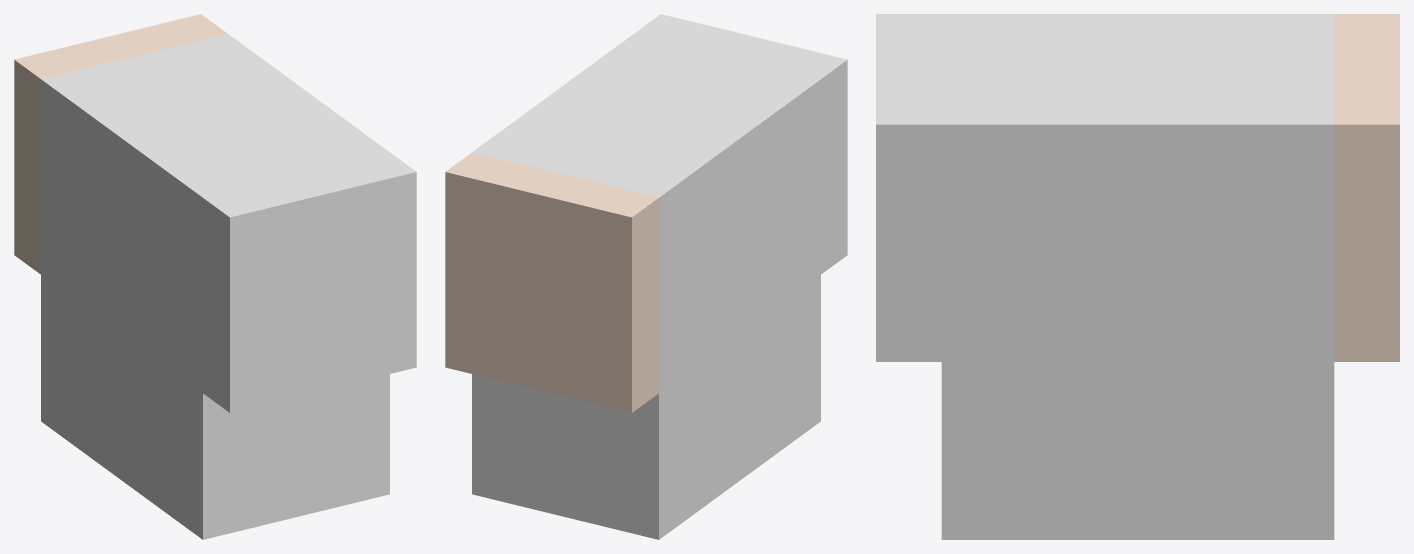
Rendered from kiritan-1-LeftArm_1.obj.
3 renders of one model, left to right at view 1: azimuth 30°, elevation 25°; view 2: azimuth 150°, elevation 25°; view 3: azimuth 270°, elevation 25°, orthographic. The views are drawn at different scales.
Parts seen in each view (by area): view 1: LeftArm_1; view 2: LeftArm_1; view 3: LeftArm_1.
Boxes of the visible parts, <box> form: LeftArm_1: <box>14,14,416,539</box>; LeftArm_1: <box>445,14,847,539</box>; LeftArm_1: <box>876,14,1399,539</box>.
Bounding box in the file's own units: 0.4 × 0.7 × 0.8.
Materials: 1 (1 with a texture image).
